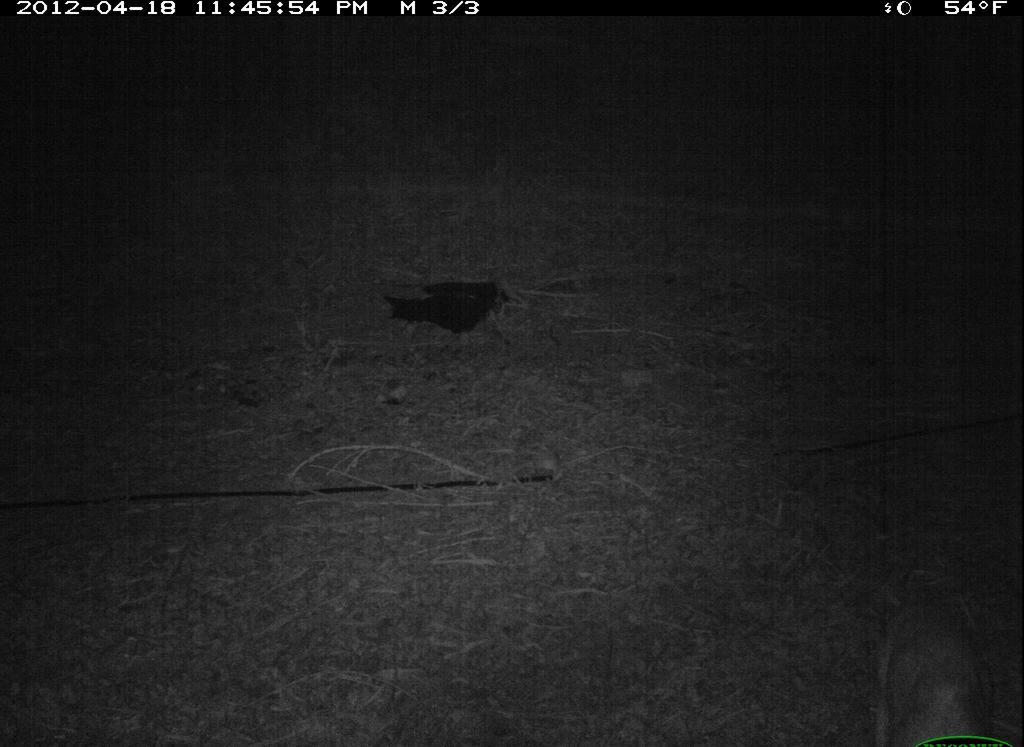coyote: (863, 551, 1014, 747)
